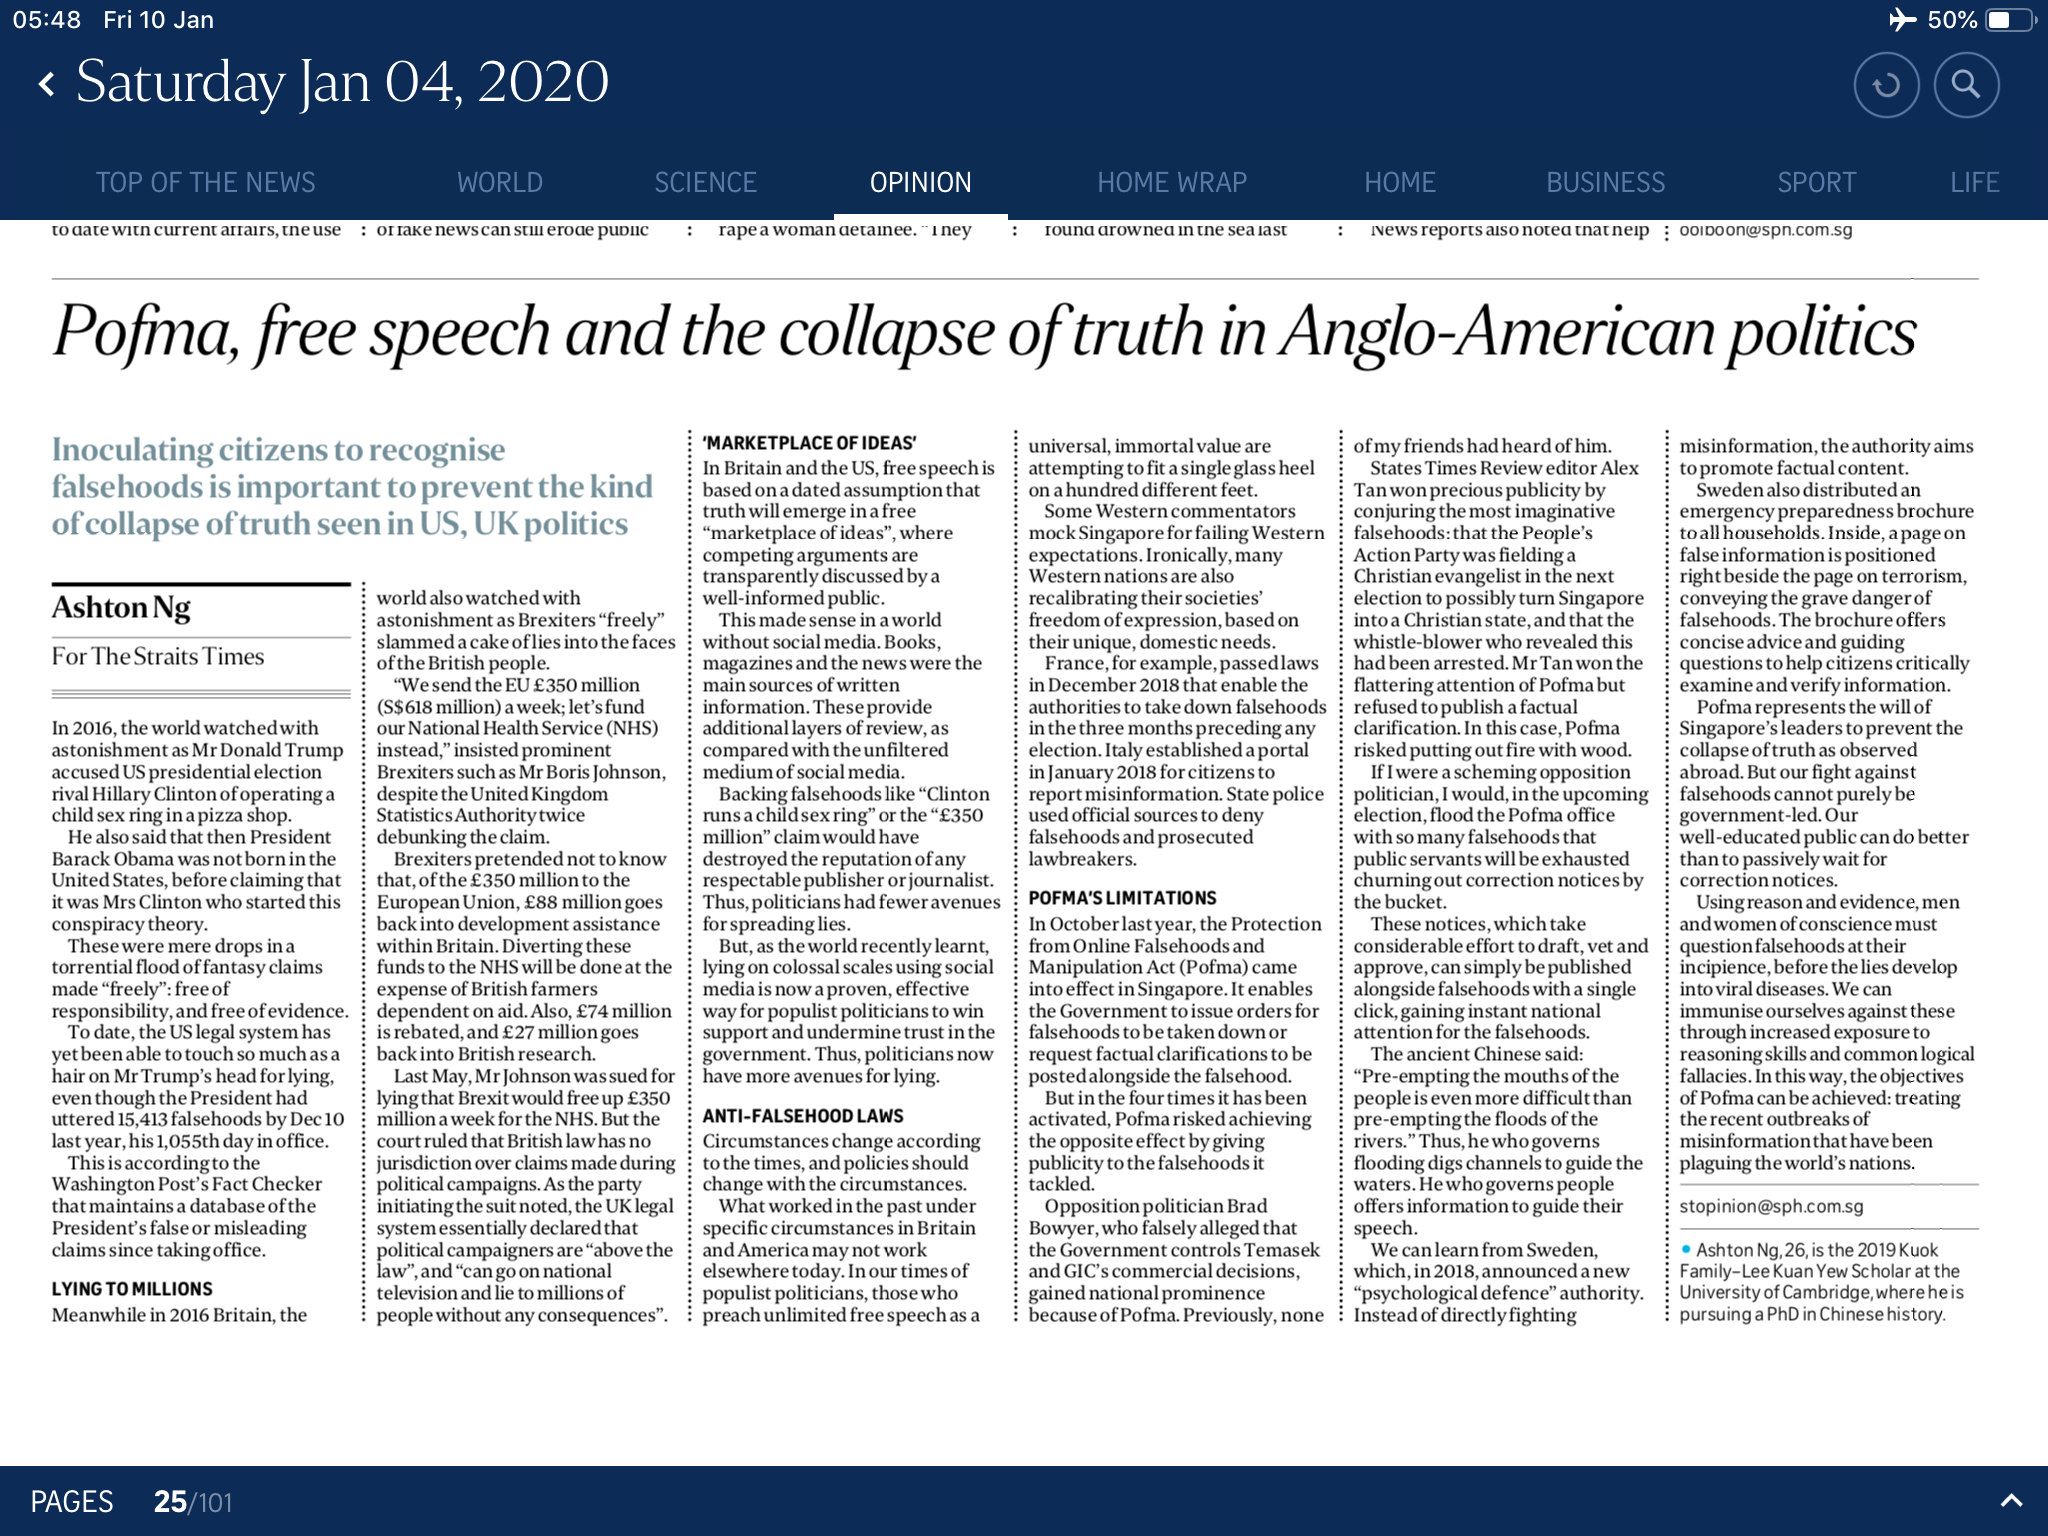Byline: (45, 587, 273, 678)
Headline: (42, 287, 1925, 384), (700, 1104, 921, 1133), (1026, 883, 1221, 915), (695, 428, 926, 453), (47, 1275, 219, 1305)
Illustration: (1672, 1233, 1979, 1329)
Text: (1347, 432, 1658, 1334), (1671, 431, 1987, 1179), (373, 589, 677, 1334), (697, 453, 1006, 1096), (44, 710, 355, 1270), (1022, 432, 1335, 874), (1026, 910, 1334, 1338), (47, 424, 663, 552), (697, 1125, 992, 1334), (47, 1300, 316, 1334)
